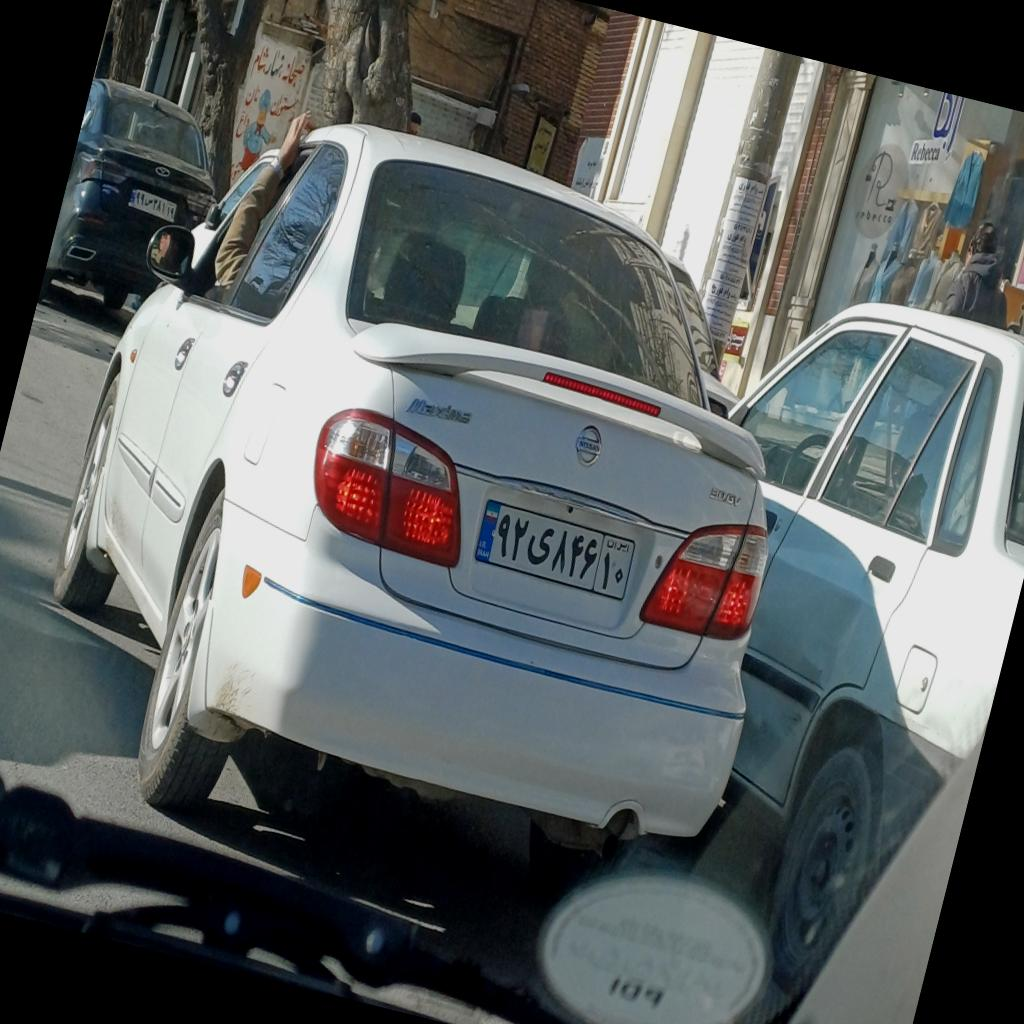Plates: (472, 500, 638, 597)
